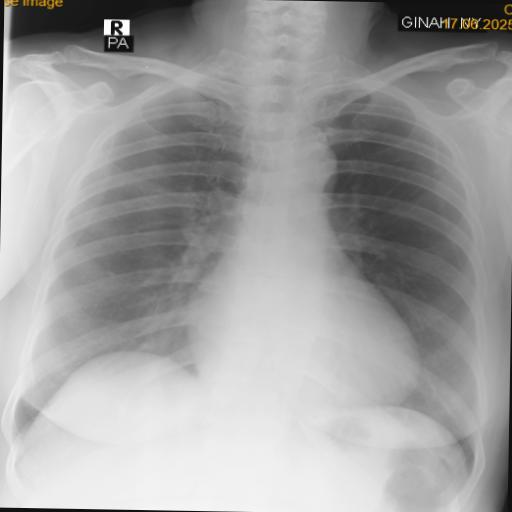kardiomegali: (6, 41, 494, 468)
